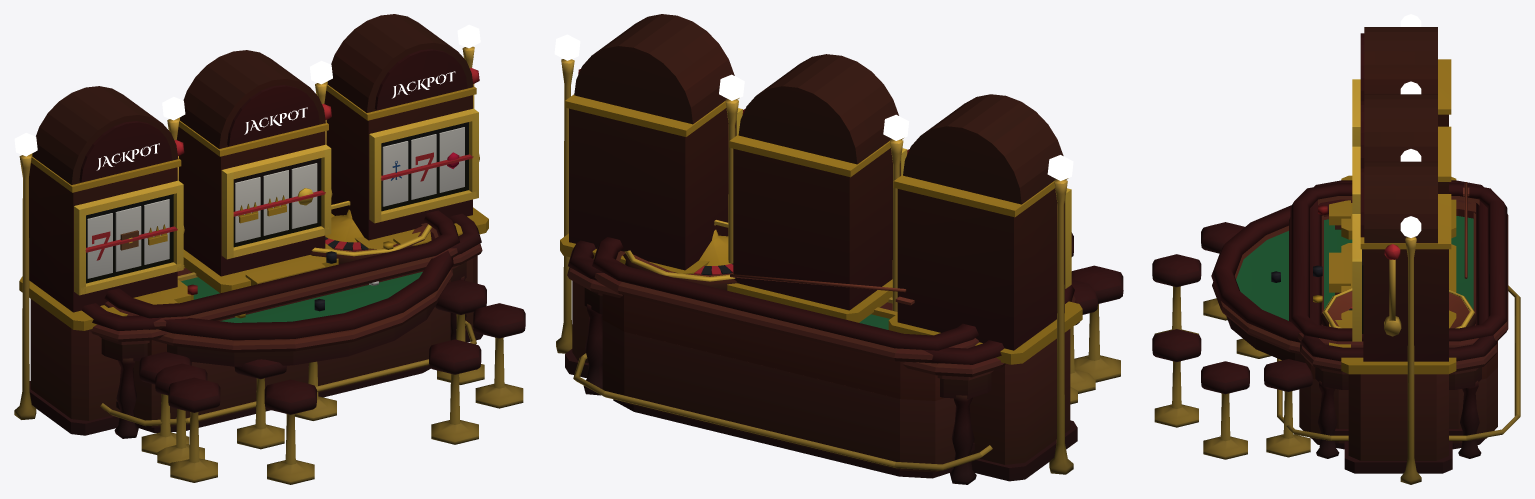
The model's file is casino_tables_low.glb.
The picture shows the model from 3 angles, left to right: view 1: azimuth 30°, elevation 25°; view 2: azimuth 150°, elevation 25°; view 3: azimuth 270°, elevation 25°; orthographic projection. The views are drawn at different scales.
Visible parts, largest first — view 1: slots_LOD1, blackjack_LOD1, dice_LOD1, roulette_LOD1; view 2: slots_LOD1, dice_LOD1, roulette_LOD1, blackjack_LOD1; view 3: slots_LOD1, blackjack_LOD1, dice_LOD1, roulette_LOD1.
Boxes of the visible parts, box(x1,y1,x2,y2) form: slots_LOD1: box(14, 14, 488, 454); blackjack_LOD1: box(153, 231, 525, 484); dice_LOD1: box(100, 210, 476, 432); roulette_LOD1: box(82, 201, 482, 465); slots_LOD1: box(554, 14, 1082, 481); dice_LOD1: box(573, 237, 992, 478); roulette_LOD1: box(567, 220, 1097, 484); blackjack_LOD1: box(871, 232, 1123, 382); slots_LOD1: box(1264, 14, 1456, 484); blackjack_LOD1: box(1152, 199, 1352, 459); dice_LOD1: box(1277, 182, 1520, 449); roulette_LOD1: box(1236, 180, 1497, 458).
Size of the model in its own units: 4.08 by 2.52 by 3.
